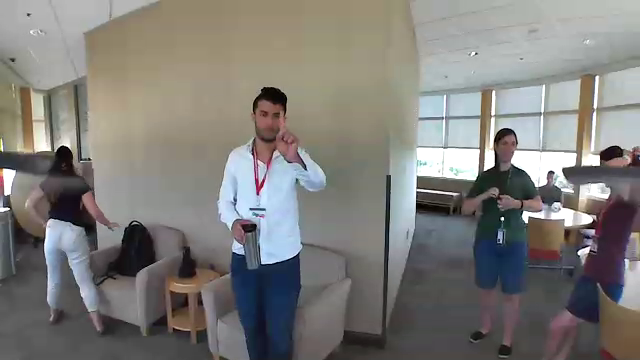up: (274, 107, 303, 163)
